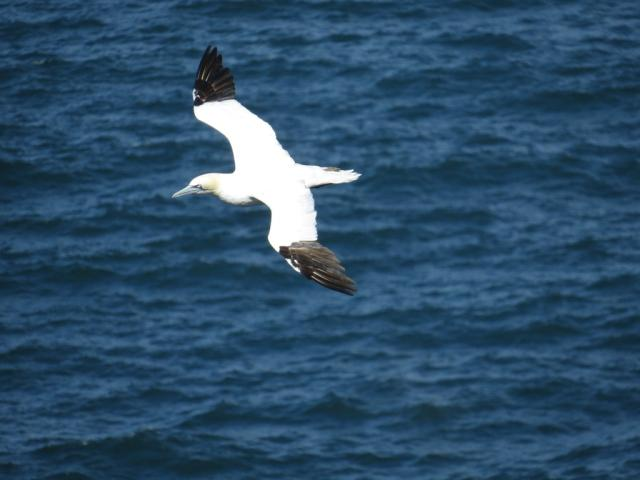Bird: (174, 44, 360, 295)
